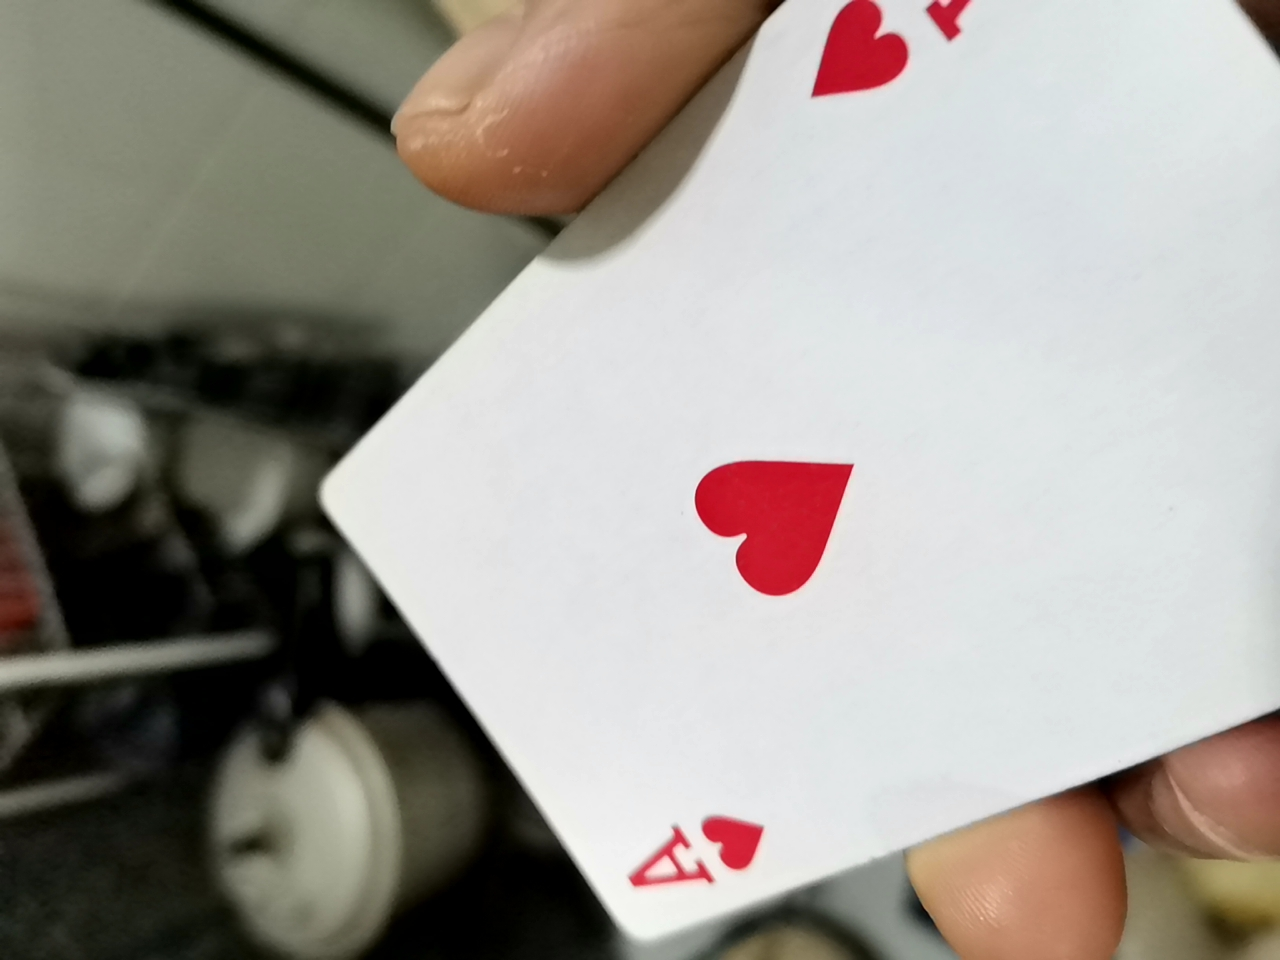hx a: (312, 13, 1272, 927)
